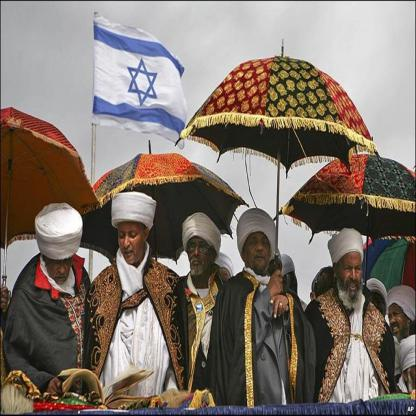face: (45, 236, 72, 286), (188, 232, 215, 280), (339, 252, 364, 302), (246, 229, 272, 274), (120, 219, 143, 265), (389, 303, 411, 337)
